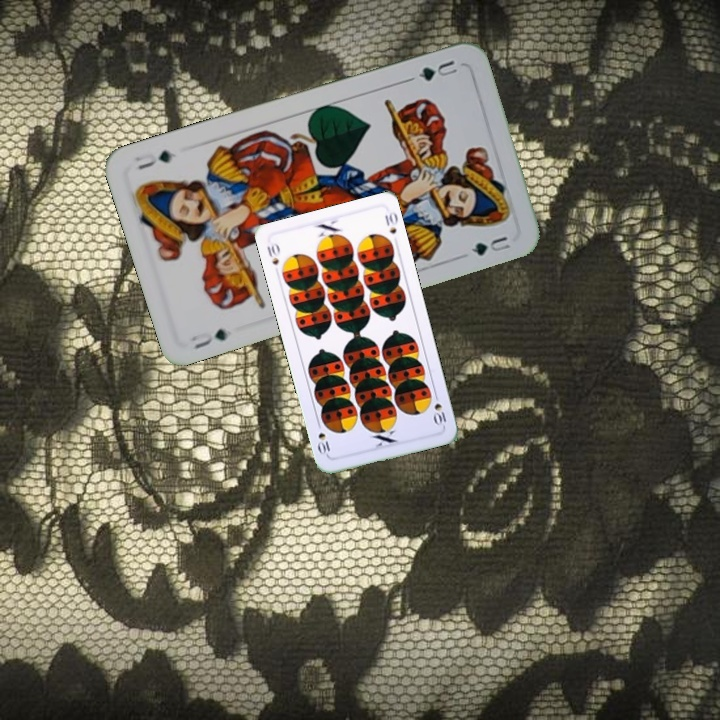GU: (414, 56, 462, 84), (187, 324, 230, 352)
S10: (430, 389, 449, 429), (263, 239, 282, 269)
